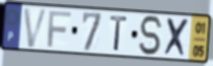7: (80, 10, 103, 53)
F: (46, 10, 72, 49)
S: (138, 14, 165, 58)
T: (109, 14, 129, 52)
V: (22, 6, 50, 49)
X: (162, 16, 192, 59)
